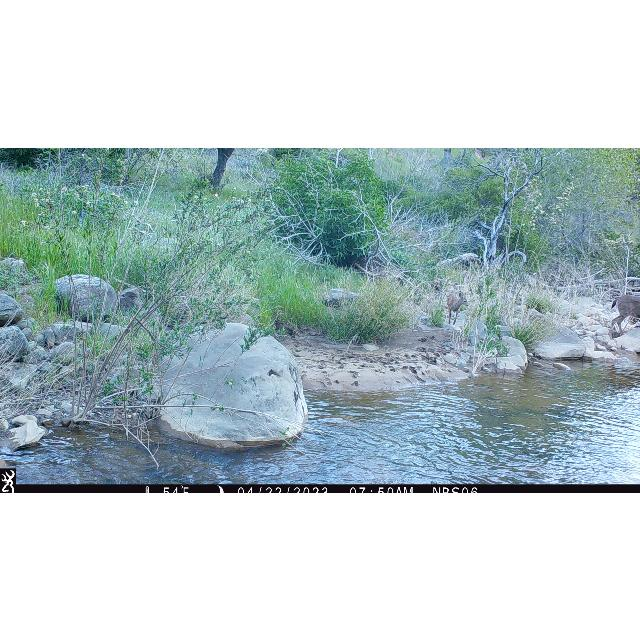animals: (610, 294, 640, 336), (448, 291, 468, 325)
